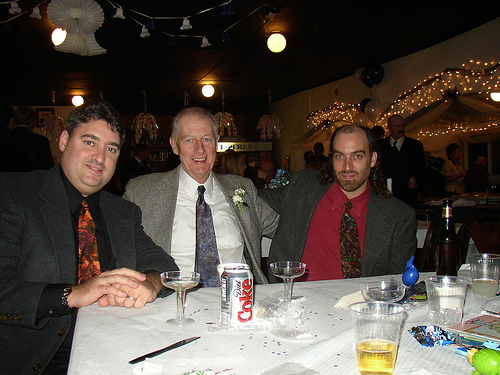without_mask: (58, 108, 127, 195), (174, 109, 221, 179), (329, 130, 381, 189), (384, 115, 408, 139), (445, 144, 464, 163), (473, 155, 488, 171)
